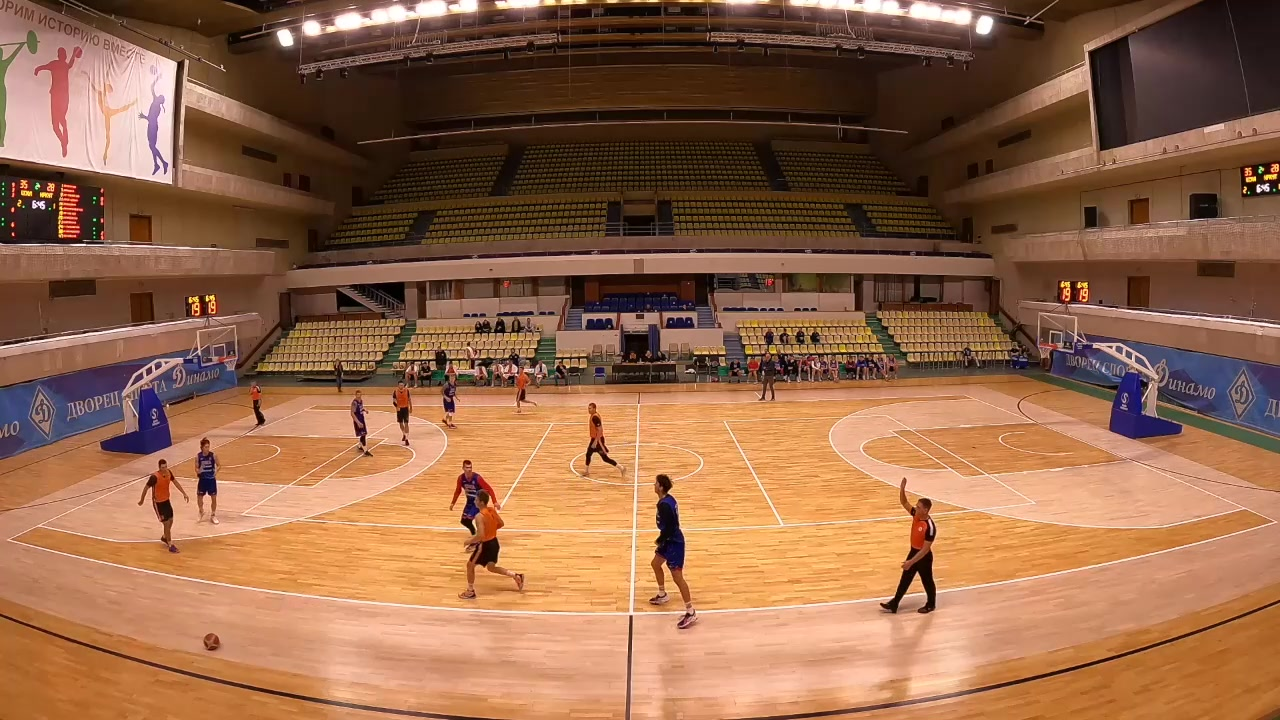basketball: (51, 581, 69, 614)
